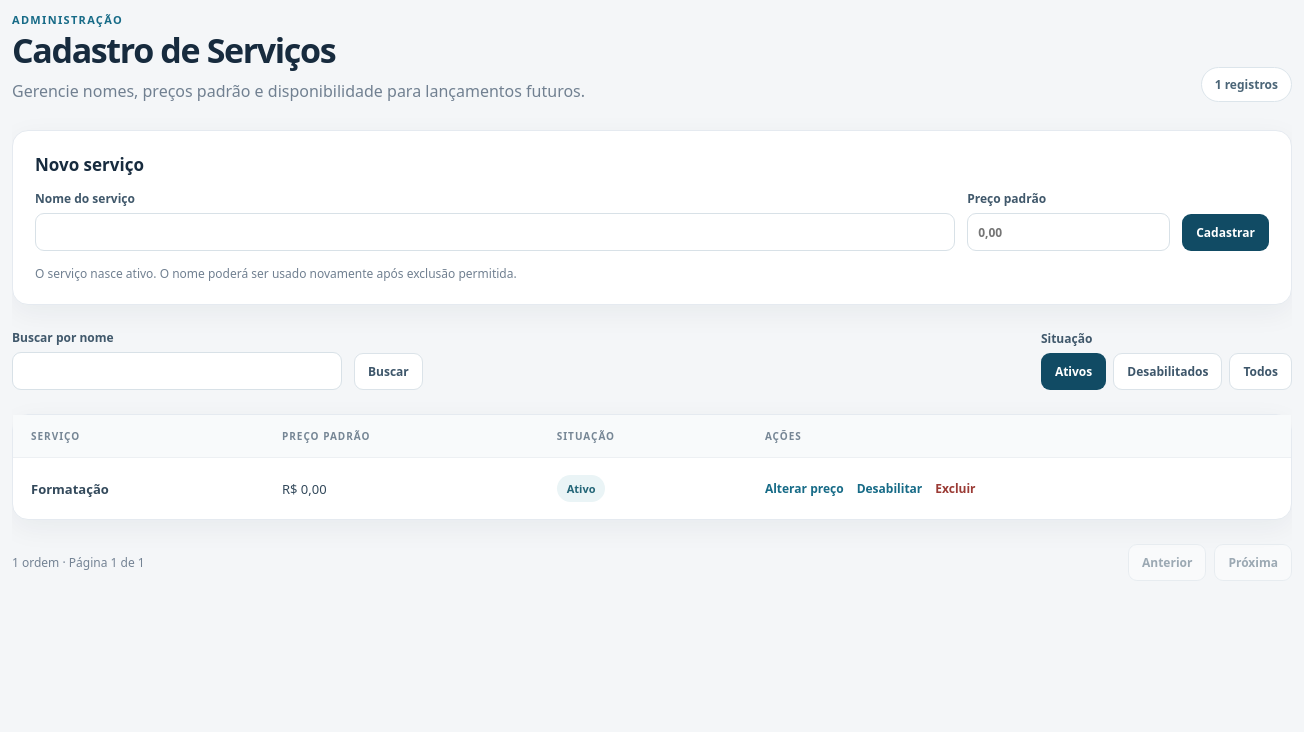
Test: ServiceCatalogPage › mostra conflito claro inclusive para serviço desabilitado
The image size is (1304, 732).
Expected: the text "Formatação" is shown, [31,480,109,498]
Type "formatacao" into the field labelled "Nome do serviço". click: {"x": 495, "y": 232}
box: [35,213,955,251]
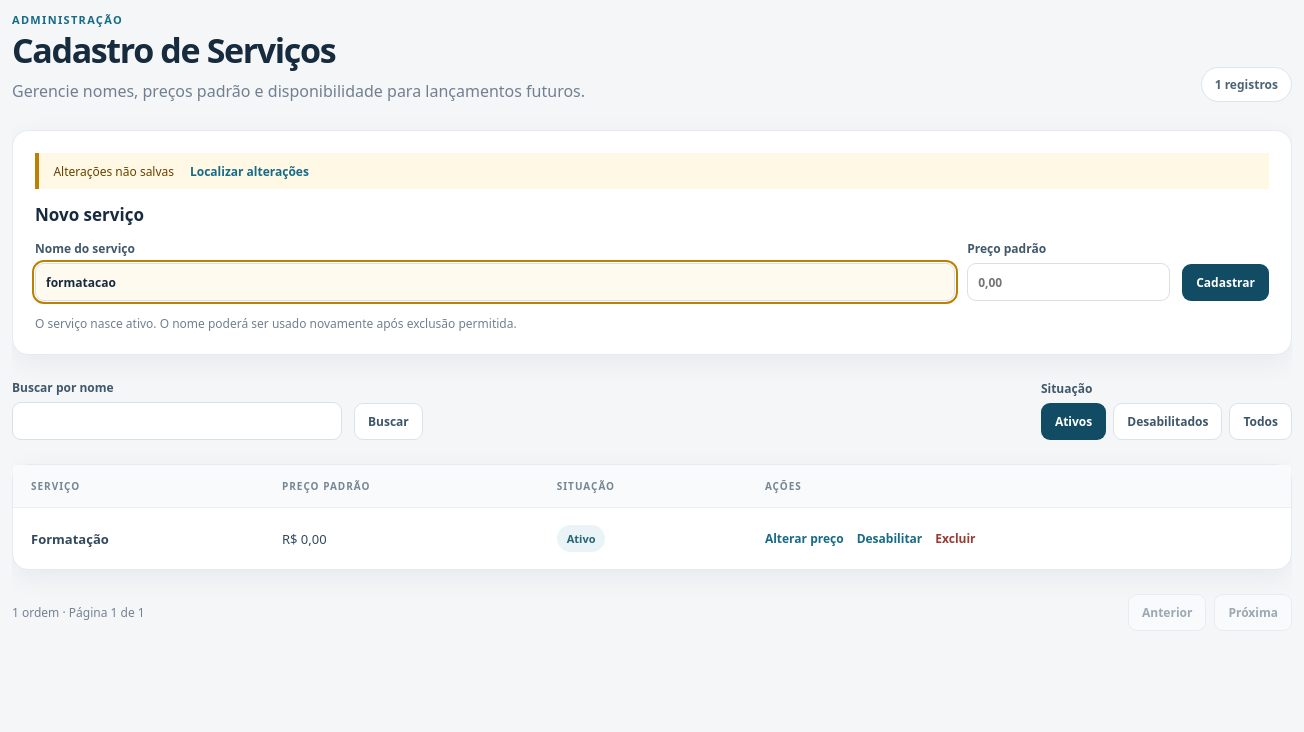
Type "1,00" into the field labelled "Preço padrão". click: {"x": 1069, "y": 282}
box: [967,263,1170,301]
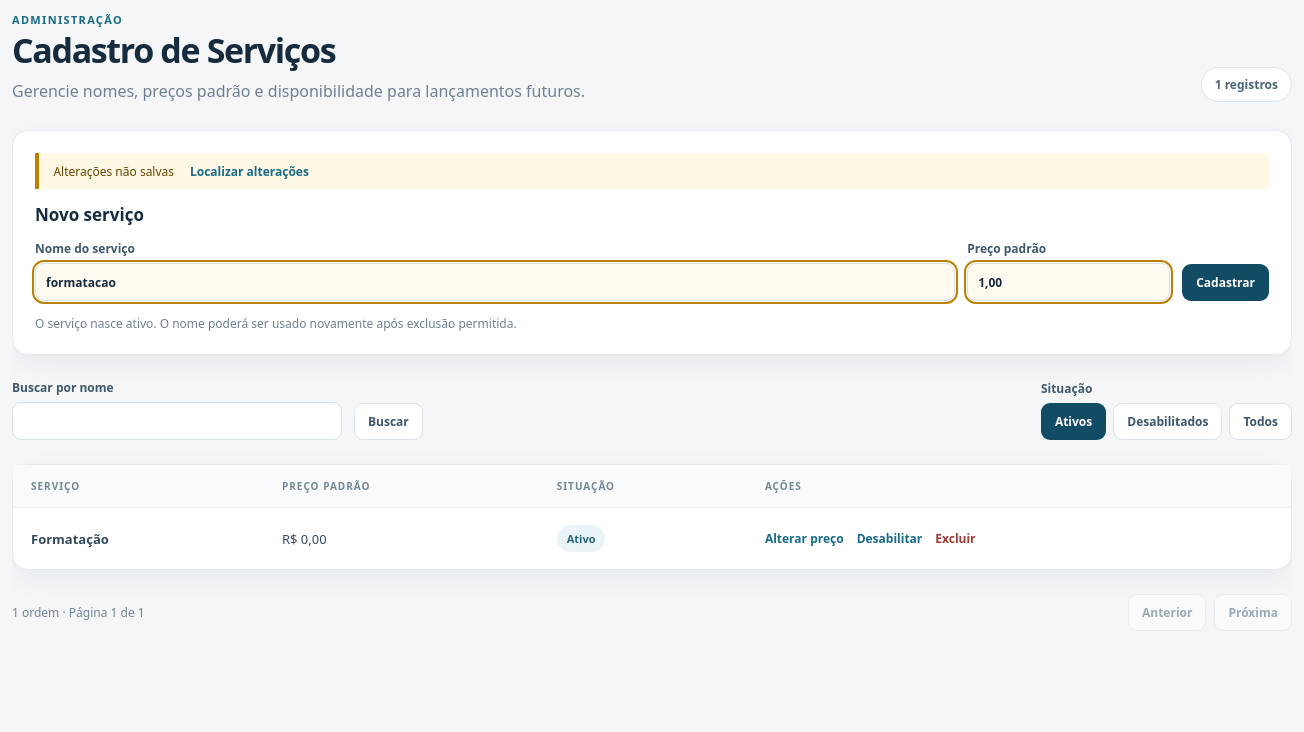
Click the button "Cadastrar". click: {"x": 1226, "y": 283}
box: [1182,264,1269,301]
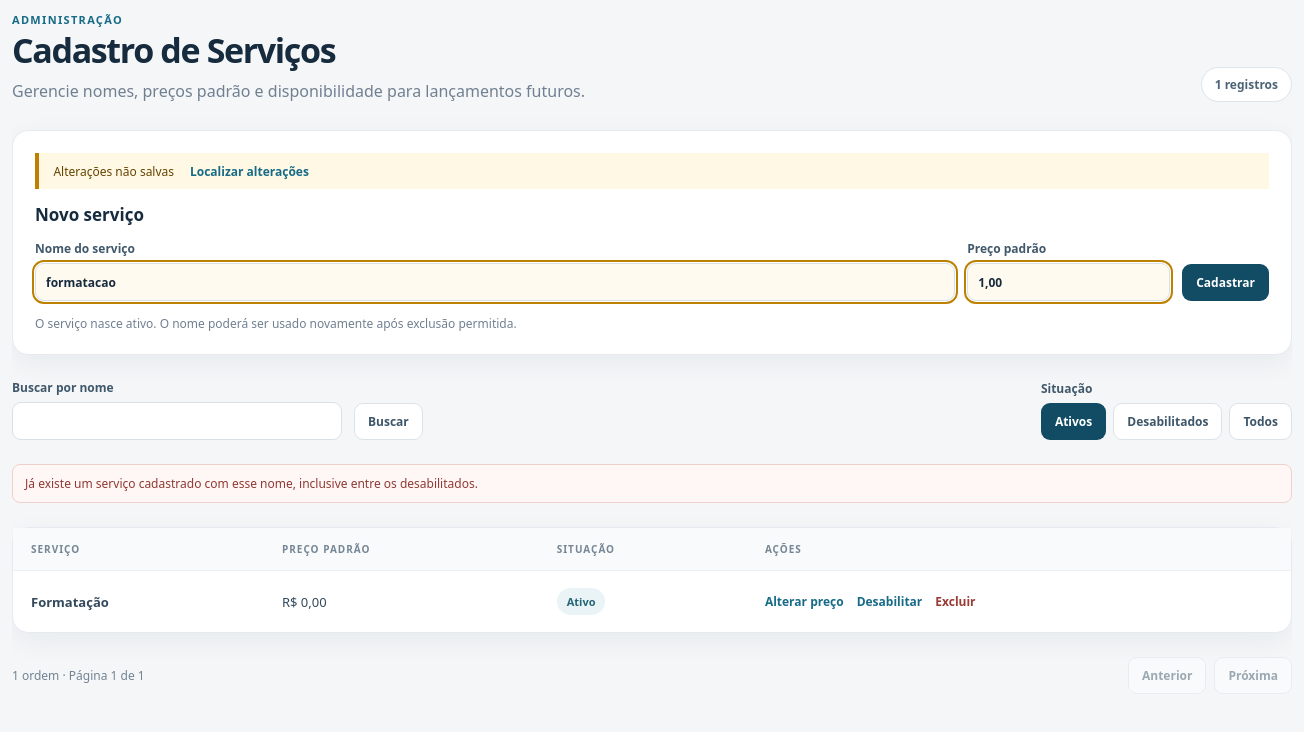
Expected: the 2nd message shows "inclusive entre os desabilitados", [25,475,478,492]
